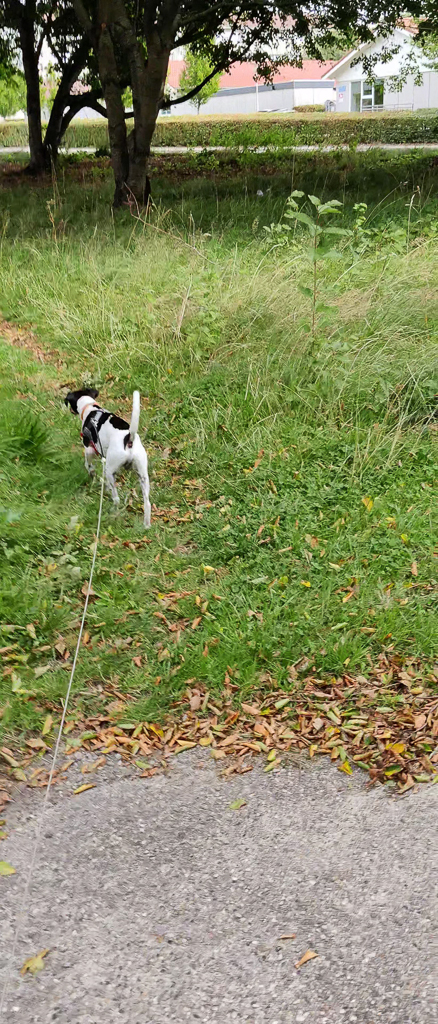Dog: (52, 377, 166, 539)
